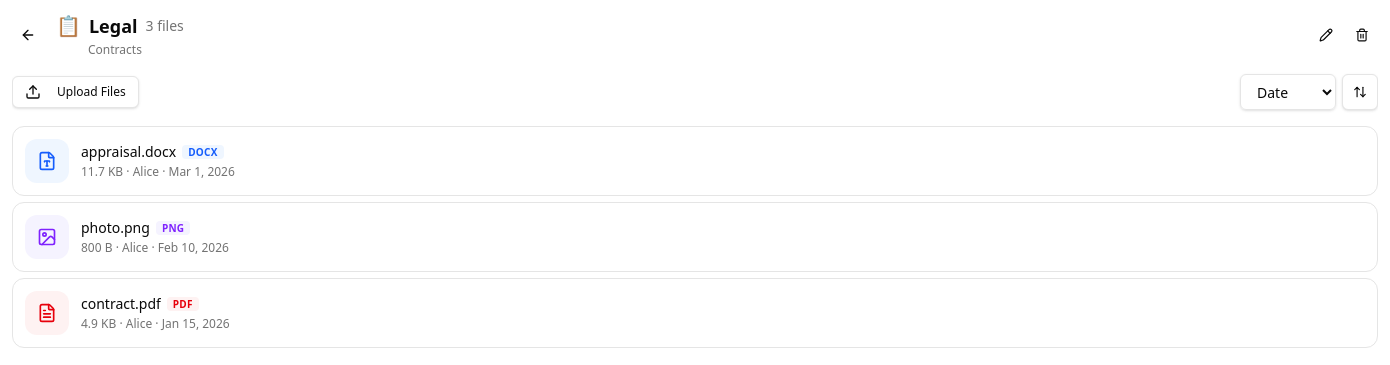
FolderView sorting › direction toggle › toggles button title between Ascending and Descending
This screenshot has width=1390, height=365.
Click the button titled "Descending" at (1360, 92), box [1342, 74, 1378, 110]
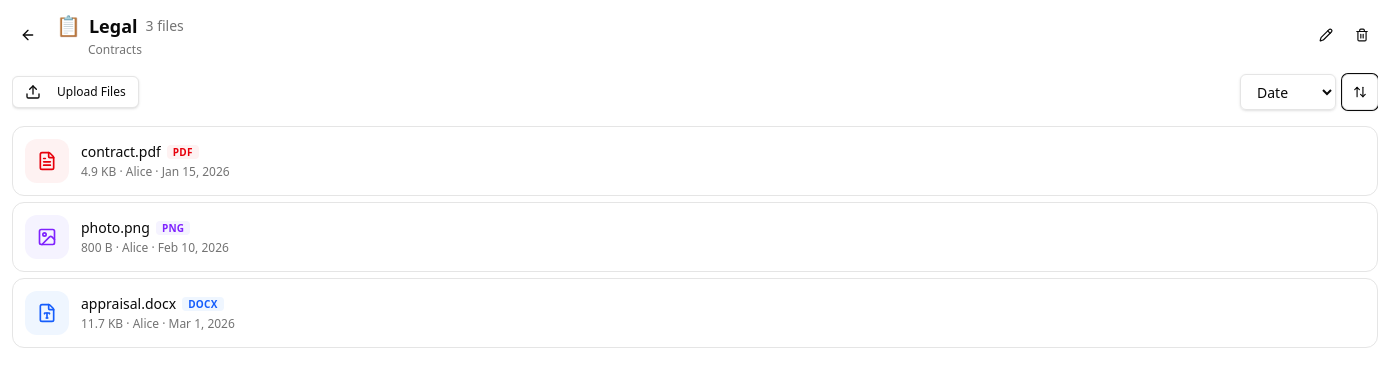
Expected: the button titled "Ascending" is shown, [1342, 74, 1378, 110]
